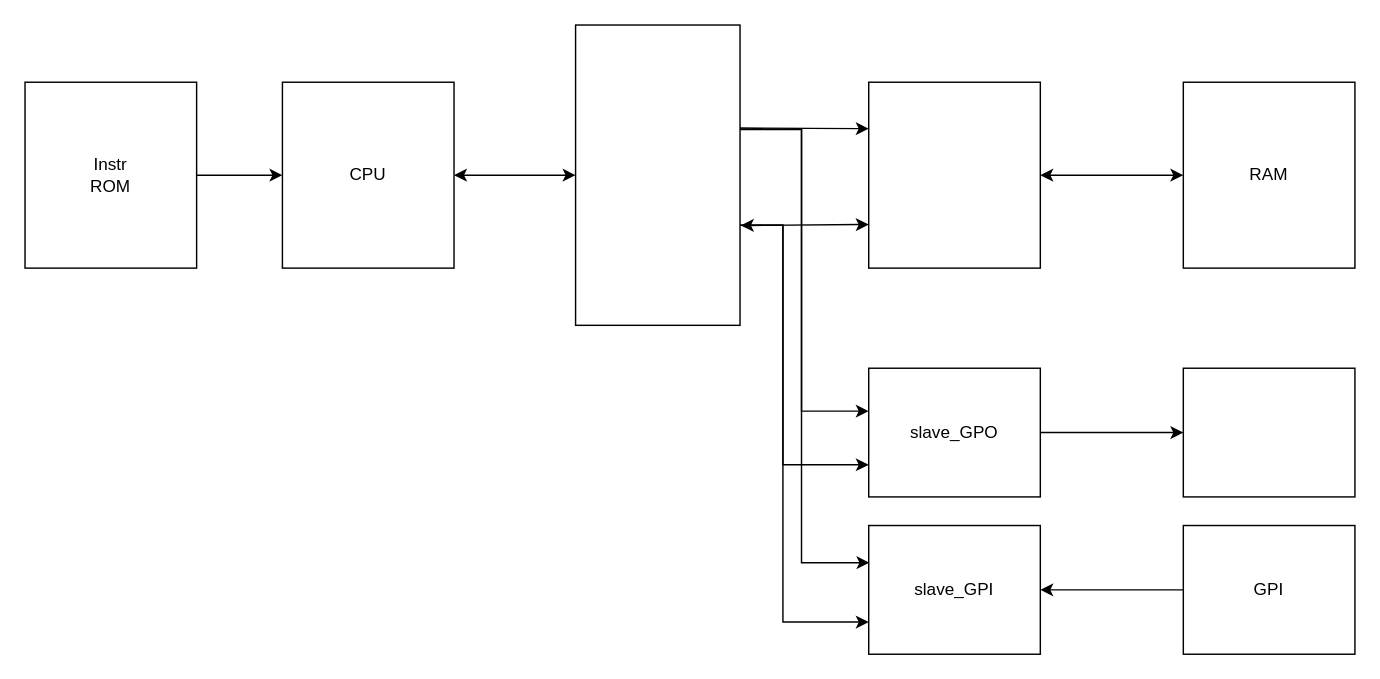
Some shapes in this 1380 by 679 pixel diagram are drawn without their labels. The shapes that lost their labels are listed below. From the top down, each one's centre as x and y in pixels, then its label:
At (x=657, y=174): "APB master".
At (x=953, y=174): "slave_RAM".
At (x=1268, y=432): "GPO".
